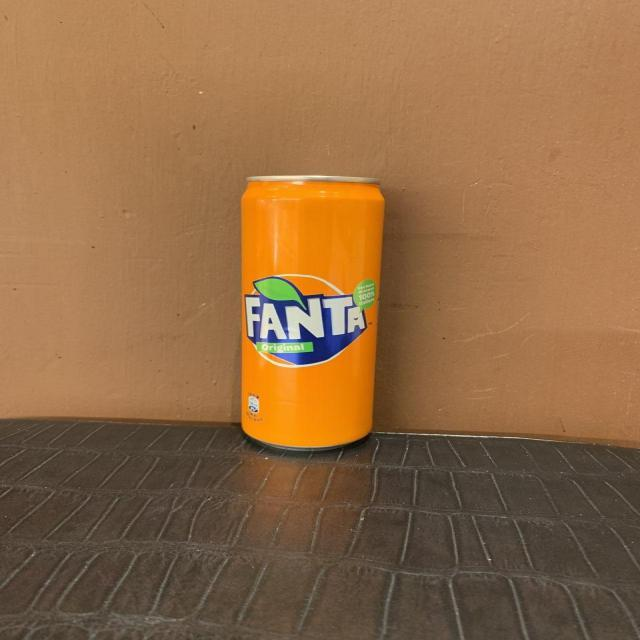Fanta: (233, 174, 391, 454)
